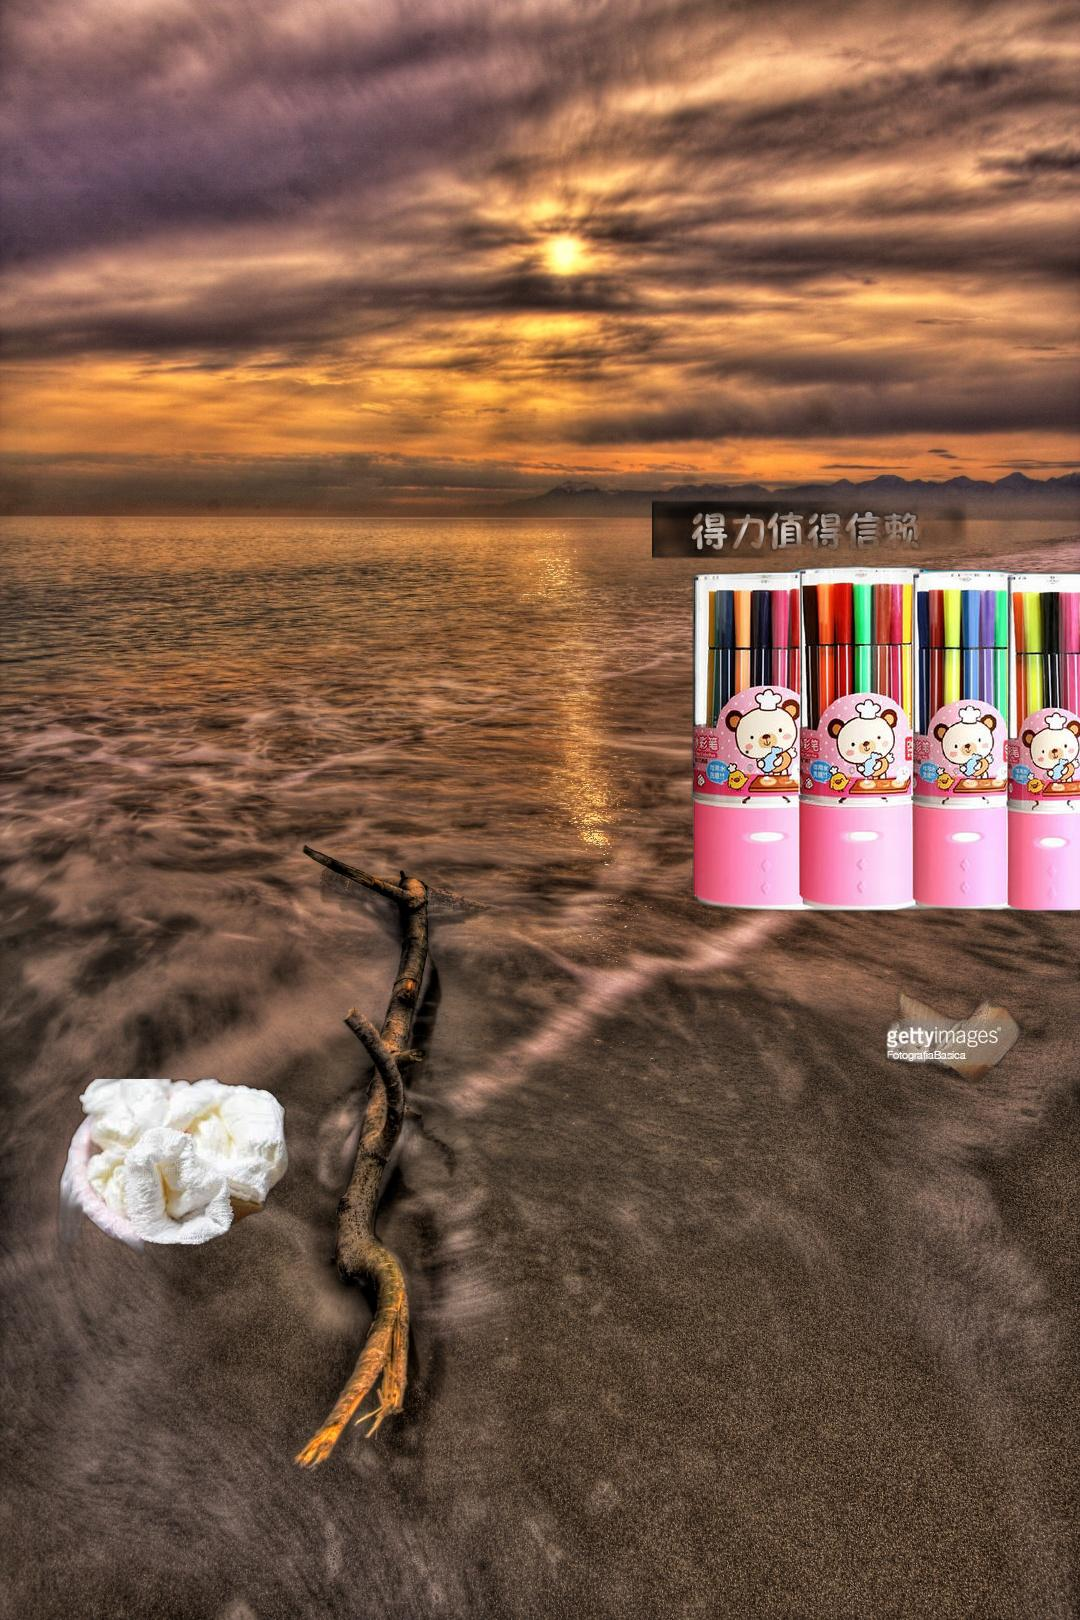penholder: (652, 482, 1080, 915)
trash: (49, 1079, 292, 1262)
trashbox-cardboard: (871, 1373, 1080, 1620), (876, 969, 1080, 1100)
